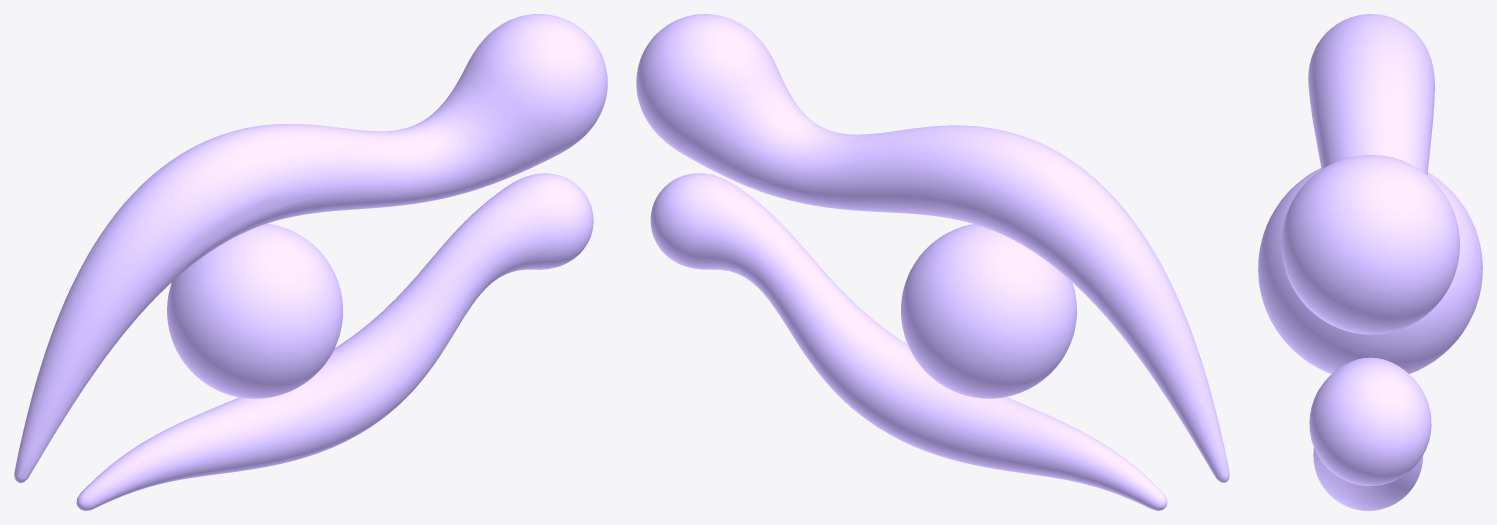
File: eye.glb
3 renders of one model, left to right at view 1: azimuth 30°, elevation 25°; view 2: azimuth 150°, elevation 25°; view 3: azimuth 270°, elevation 25°, orthographic. The views are drawn at different scales.
Visible parts, largest first — view 1: eye; view 2: eye; view 3: eye.
Boxes of the visible parts, x1,y1,x2,y2 form: eye: (14,14,607,510); eye: (636,14,1229,510); eye: (1258,14,1482,510).
Size of the model in its own units: 23.27 by 14.45 by 6.08.
